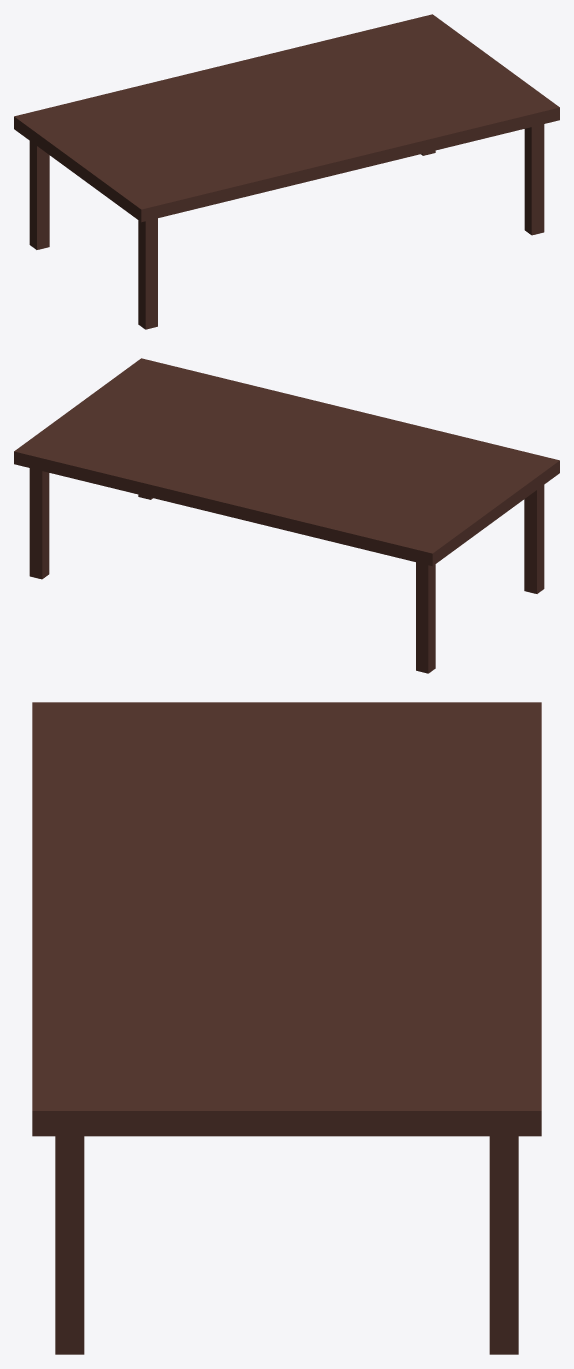
Rendered from table.glb.
The picture shows the model from 3 angles, top to bottom: view 1: azimuth 30°, elevation 25°; view 2: azimuth 150°, elevation 25°; view 3: azimuth 270°, elevation 25°; orthographic projection. The views are drawn at different scales.
Parts seen in each view (by area): view 1: Table Top-col, Leg 1.001-col, Leg 1-col, Leg 1.002-col; view 2: Table Top-col, Leg 1.003-col, Leg 1.002-col, Leg 1-col; view 3: Table Top-col, Leg 1.001-col, Leg 1.003-col.
Boxes of the visible parts, x1,y1,x2,y2 form: Table Top-col: [14, 14, 559, 222]; Leg 1.001-col: [524, 124, 544, 235]; Leg 1-col: [138, 218, 157, 329]; Leg 1.002-col: [29, 141, 49, 249]; Table Top-col: [14, 358, 559, 566]; Leg 1.003-col: [29, 468, 49, 579]; Leg 1.002-col: [416, 562, 435, 673]; Leg 1-col: [524, 485, 544, 593]; Table Top-col: [32, 702, 541, 1136]; Leg 1.001-col: [55, 1136, 84, 1354]; Leg 1.003-col: [489, 1136, 518, 1354].
Bounding box in the file's own units: 4.23 × 1.22 × 2.23.
